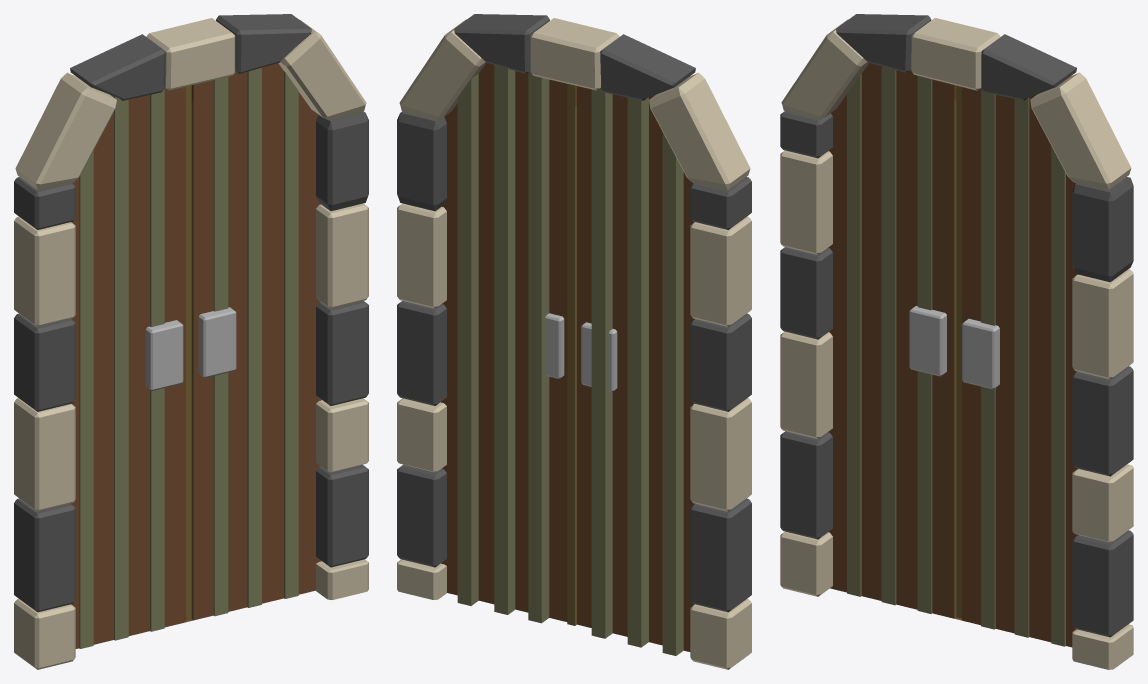
File: door.fbx
The picture shows the model from 3 angles, left to right: view 1: azimuth 30°, elevation 25°; view 2: azimuth 150°, elevation 25°; view 3: azimuth 330°, elevation 25°; orthographic projection.
Visible parts, largest first — view 1: Door; view 2: Door; view 3: Door.
Part boxes in pixels (x1,y1,x2,y2): Door: (14, 14, 368, 669); Door: (397, 14, 751, 669); Door: (780, 14, 1133, 669).
Bounding box in the file's own units: 162 × 275 × 20.16.
